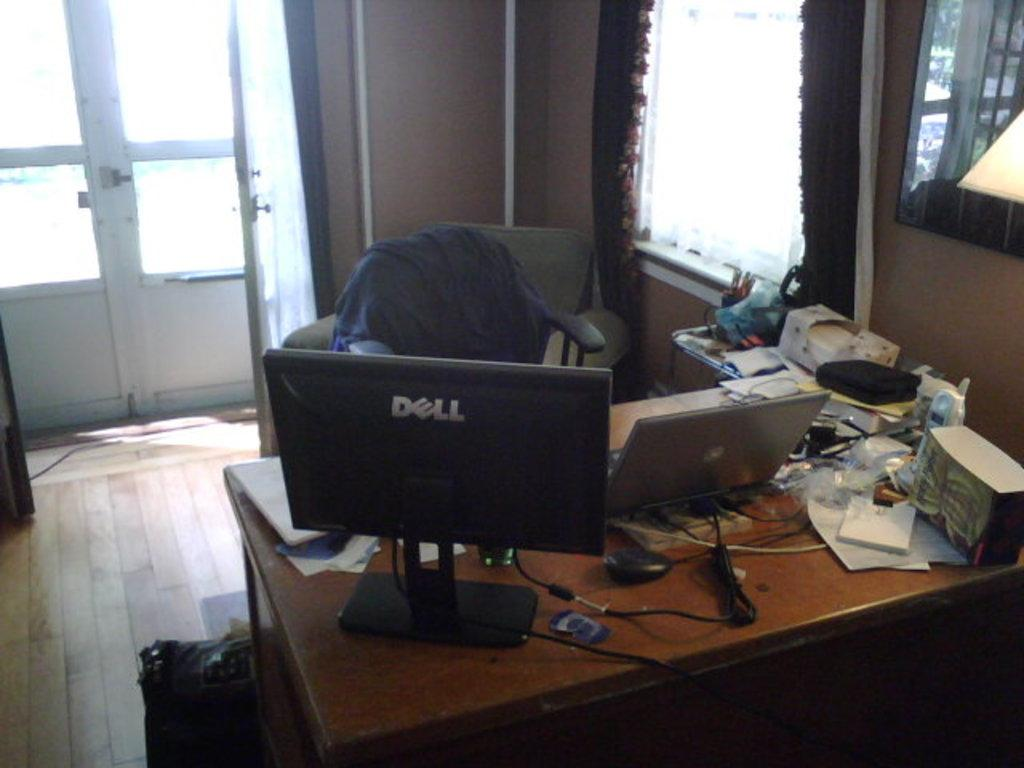Chair: (285, 216, 638, 403), (462, 226, 594, 336)
